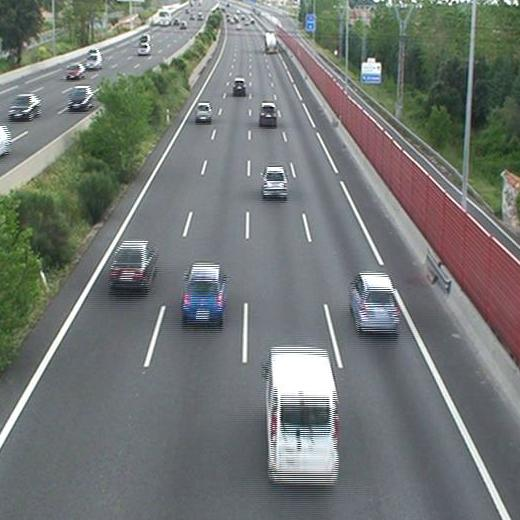car: (350, 274, 399, 331), (182, 263, 225, 321), (111, 241, 155, 286), (262, 166, 287, 196), (259, 103, 277, 123), (195, 103, 212, 120), (233, 79, 246, 94)
tank-truck: (264, 32, 277, 53)
van: (265, 348, 338, 482)
